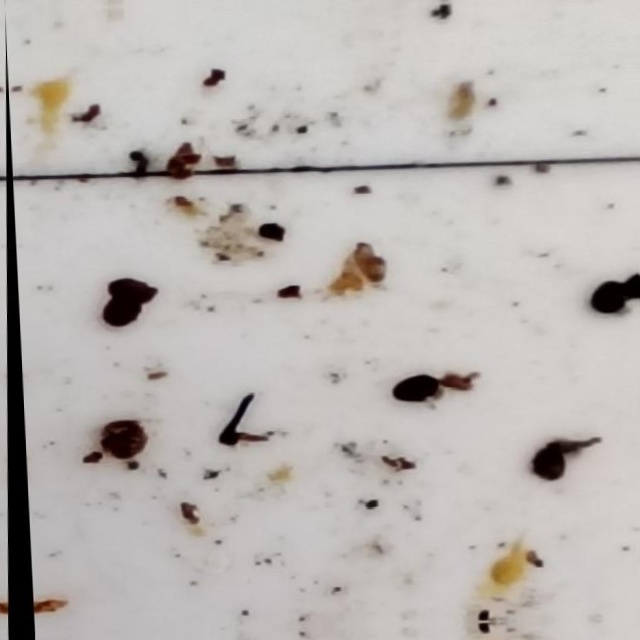varroa: (525, 444, 566, 484), (386, 374, 440, 404), (100, 293, 142, 329), (105, 275, 155, 301), (589, 281, 623, 316), (620, 269, 637, 300)
